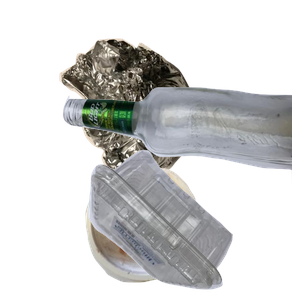glass: (60, 84, 300, 260)
metal: (57, 36, 241, 216)
plastic: (86, 147, 300, 300)
trash: (83, 163, 276, 300)
